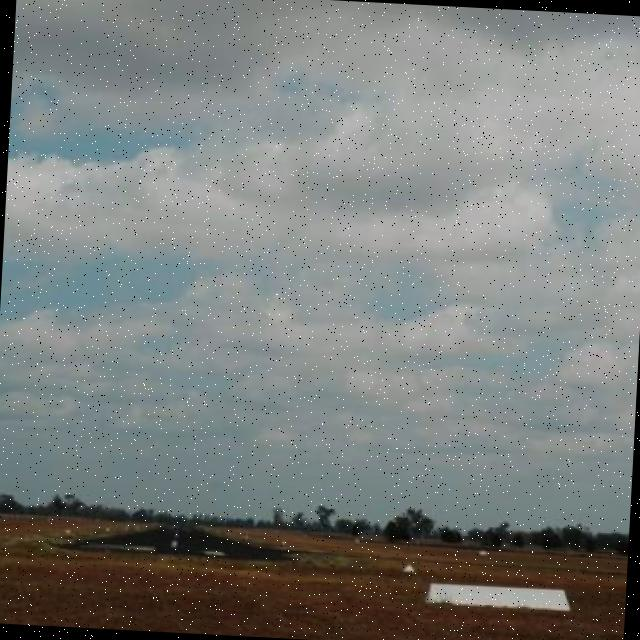Cu: (1, 15, 640, 496)
